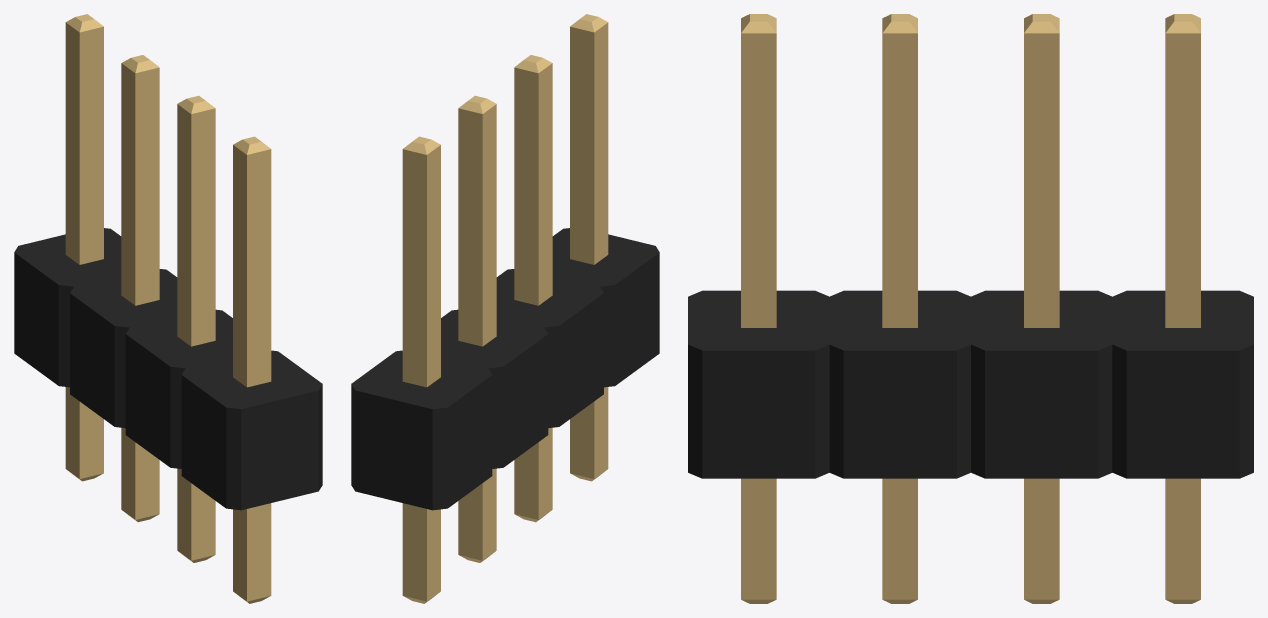
File: pinheader_1x04_p2_54mm_vertical.glb
3 renders of one model, left to right at view 1: azimuth 30°, elevation 25°; view 2: azimuth 150°, elevation 25°; view 3: azimuth 270°, elevation 25°, orthographic. The views are drawn at different scales.
Visible parts, largest first — view 1: conn_header_1x04, pin_4, pin_1, pin_2, pin_3; view 2: conn_header_1x04, pin_1, pin_4, pin_3, pin_2; view 3: conn_header_1x04, pin_1, pin_4, pin_2, pin_3.
Boxes of the visible parts, x1=… form: conn_header_1x04: x1=14, y1=14, x2=322, y2=510; pin_4: x1=233, y1=503, x2=271, y2=603; pin_1: x1=65, y1=387, x2=103, y2=481; pin_2: x1=121, y1=427, x2=159, y2=522; pin_3: x1=177, y1=468, x2=215, y2=562; conn_header_1x04: x1=351, y1=14, x2=659, y2=510; pin_1: x1=402, y1=503, x2=440, y2=603; pin_4: x1=570, y1=387, x2=608, y2=481; pin_3: x1=514, y1=427, x2=552, y2=522; pin_2: x1=458, y1=468, x2=496, y2=562; conn_header_1x04: x1=688, y1=14, x2=1253, y2=478; pin_1: x1=1165, y1=478, x2=1200, y2=603; pin_4: x1=741, y1=478, x2=776, y2=603; pin_2: x1=1024, y1=478, x2=1059, y2=603; pin_3: x1=882, y1=478, x2=917, y2=603.
Bounding box in the file's own units: 0.00254 × 0.0115 × 0.0102.
